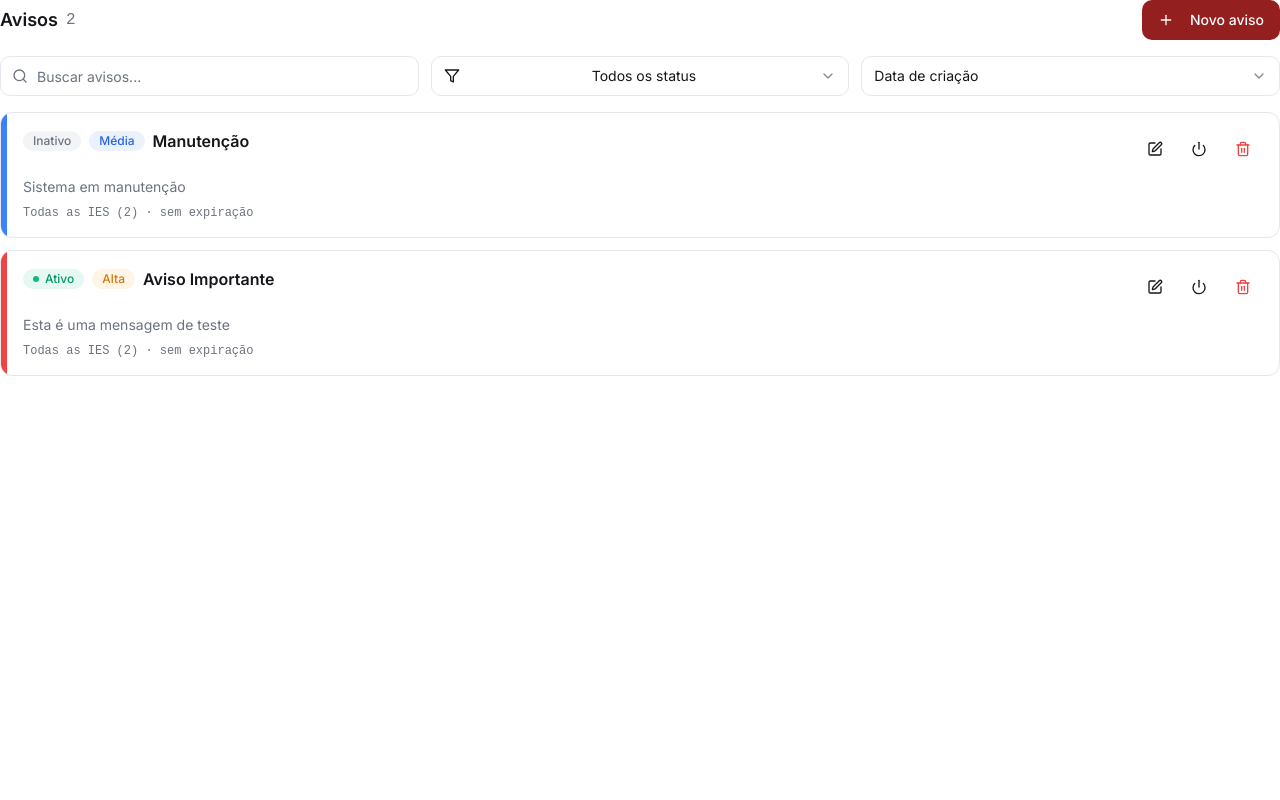
Test: AnnouncementsTab › should open announcement editor when create button is clicked
Click the button "Novo aviso" at point(1211, 20), box [1142, 0, 1279, 40]
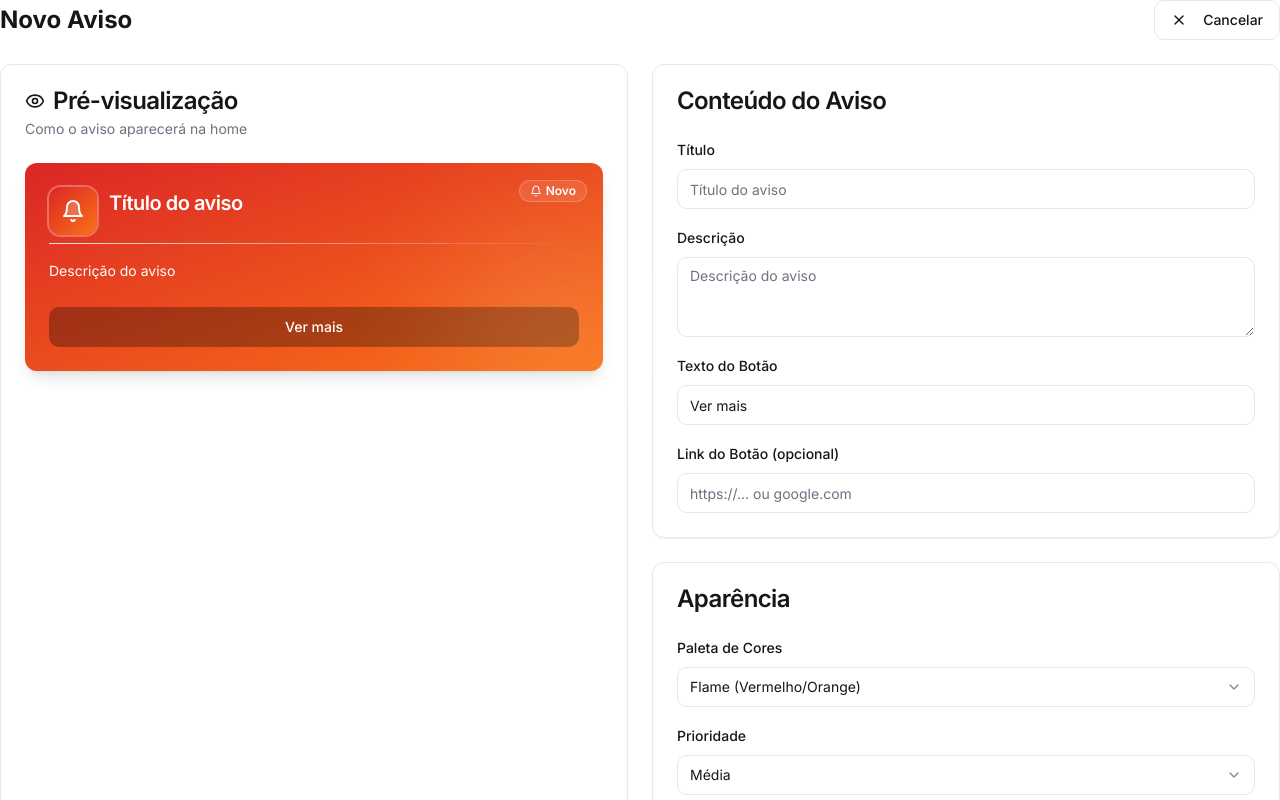
Expected: the heading "Novo Aviso" is shown, [0, 4, 132, 36]
Now the field with placeholder "Título do aviso" is shown, box [677, 169, 1255, 209]
